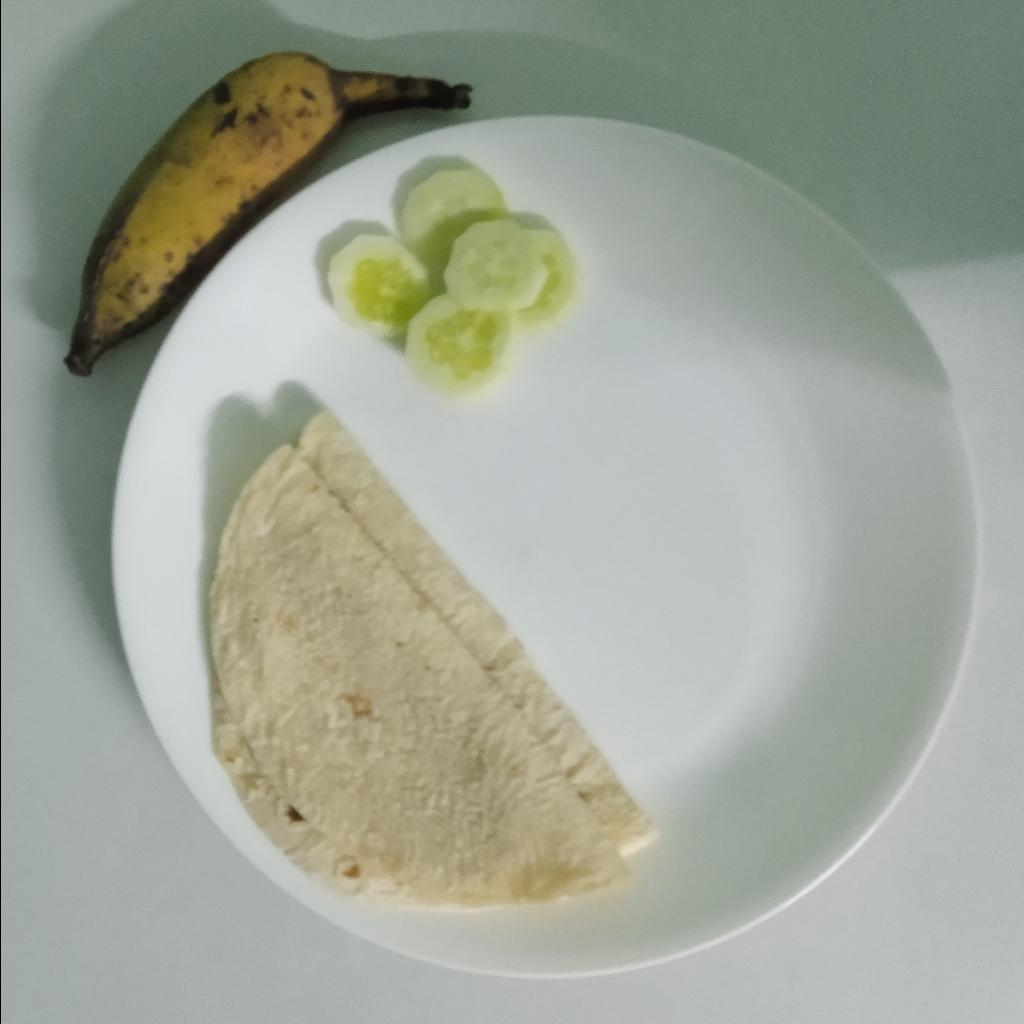banana: (54, 47, 478, 379)
cucumber: (327, 164, 578, 400)
ruti: (202, 407, 659, 916)
